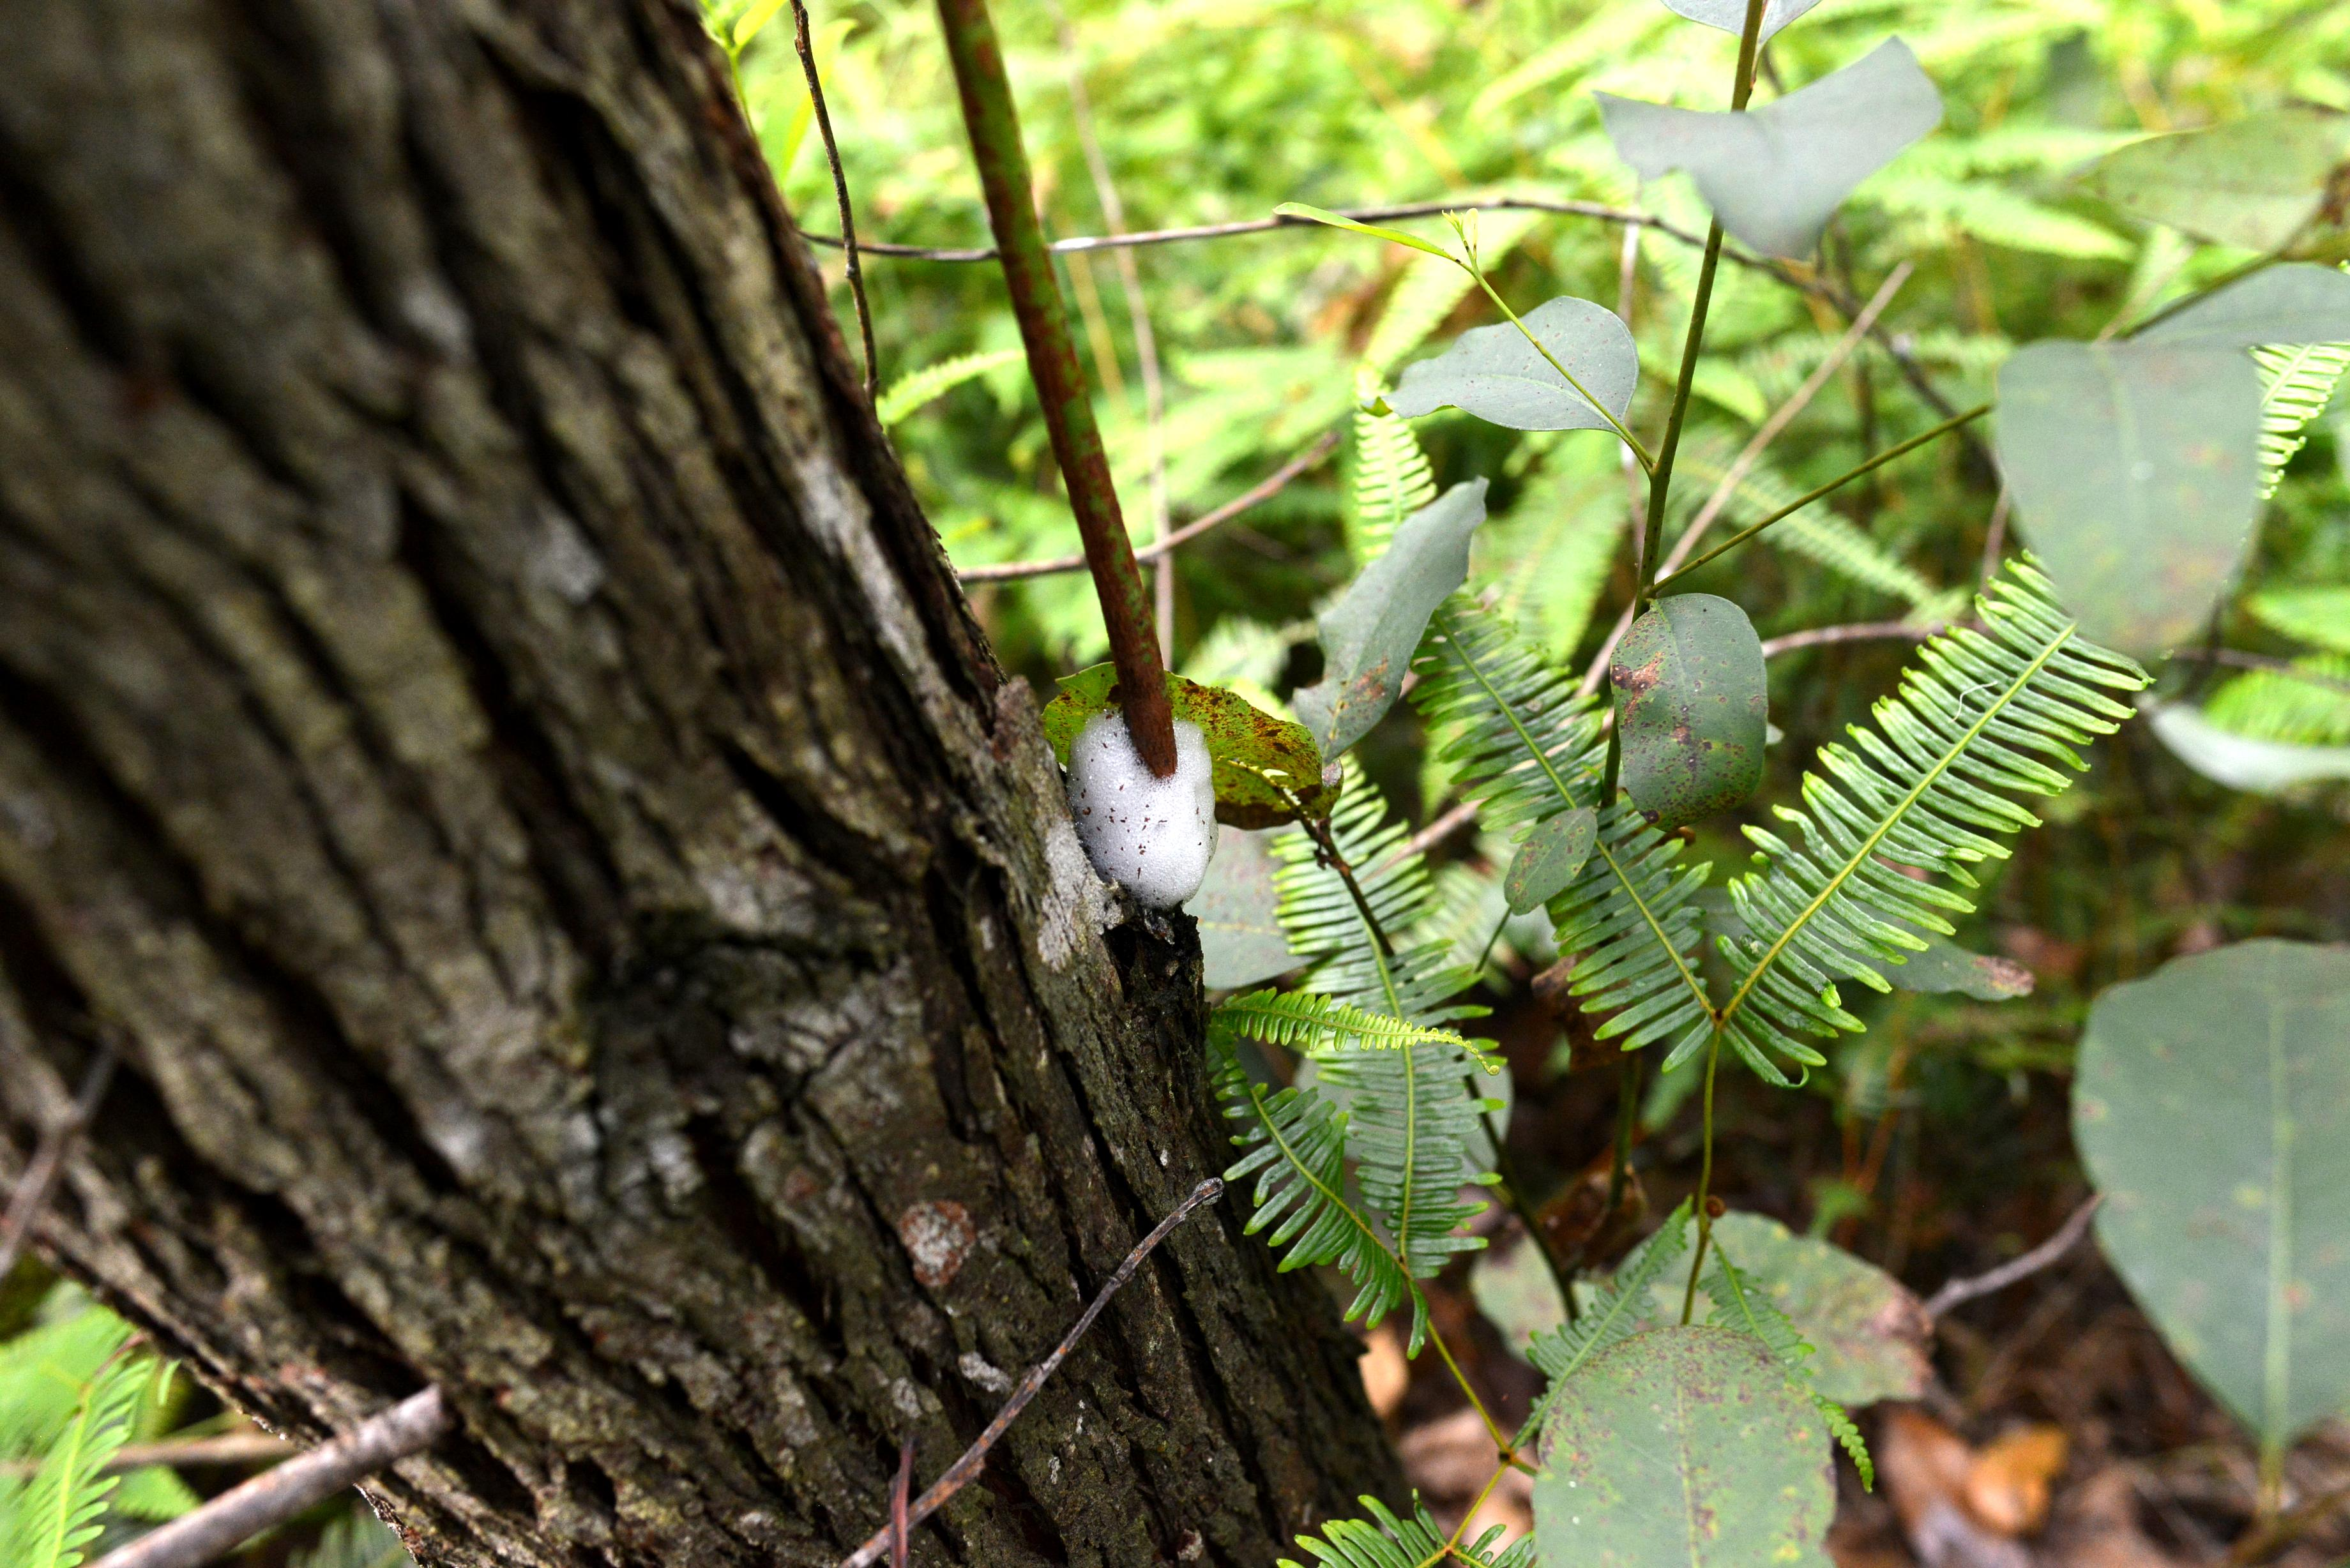Ceratocystis - Bubble: (1057, 705, 1228, 908)
